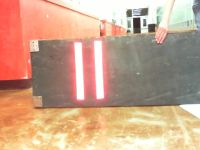switch: (93, 40, 106, 100), (73, 42, 85, 100)
